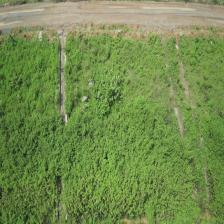vegetation: (67, 66, 196, 220), (3, 94, 59, 220)
